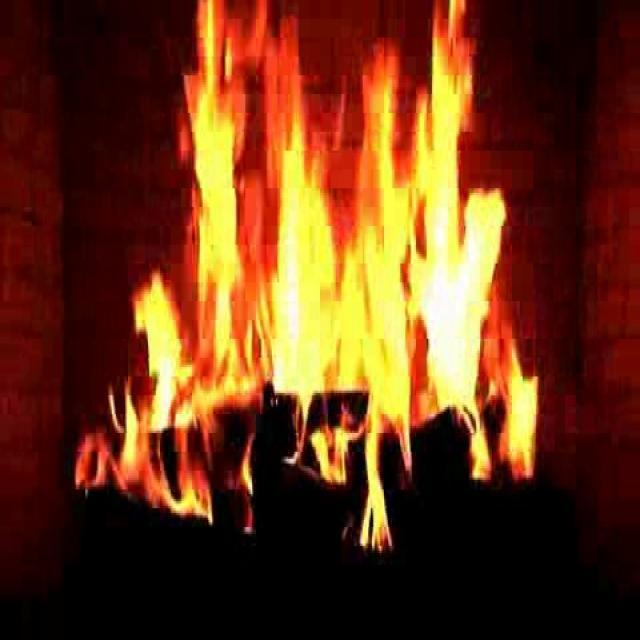Fire: (140, 7, 510, 520)
